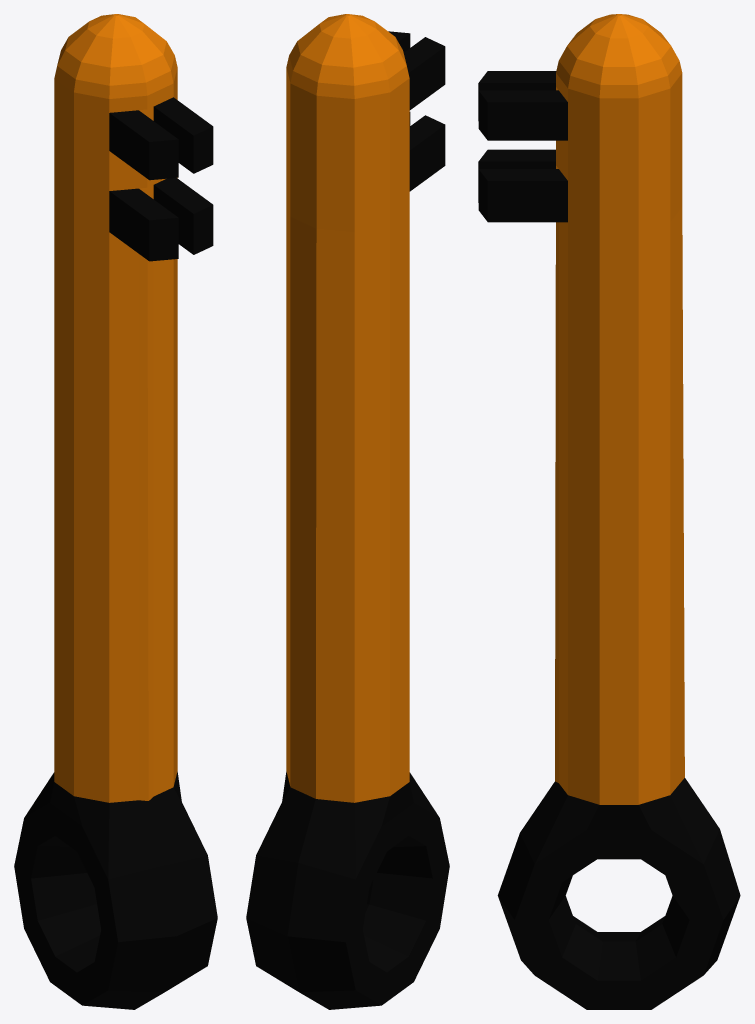
File: klucz.fbx
The picture shows the model from 3 angles, left to right: view 1: azimuth 30°, elevation 25°; view 2: azimuth 150°, elevation 25°; view 3: azimuth 270°, elevation 25°; orthographic projection.
Visible parts, largest first — view 1: Torus; view 2: Torus; view 3: Torus.
Boxes of the visible parts, x1=… form: Torus: x1=14, y1=14, x2=217, y2=1009; Torus: x1=246, y1=14, x2=449, y2=1009; Torus: x1=478, y1=14, x2=740, y2=1009.
Bounding box in the file's own units: 190 × 1719 × 415.
